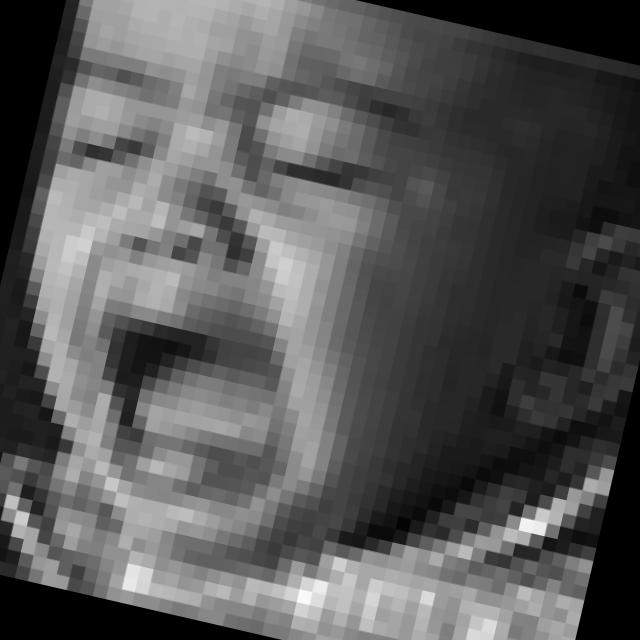sad: (0, 8, 437, 540)
